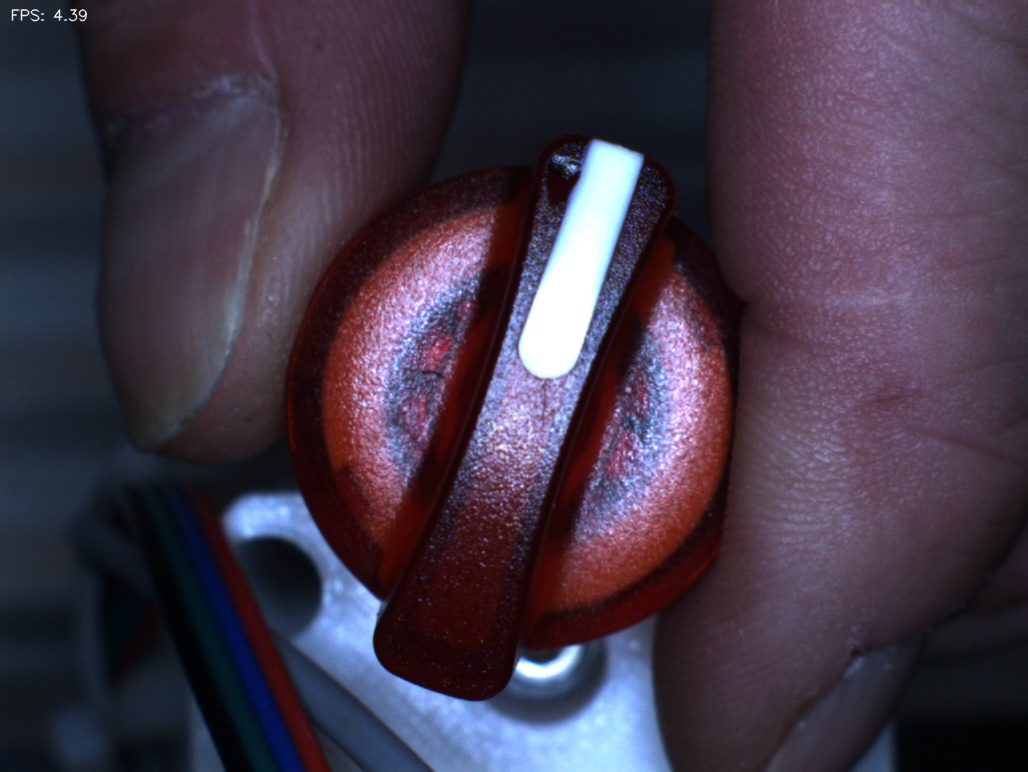Choc: (520, 125, 606, 211)
